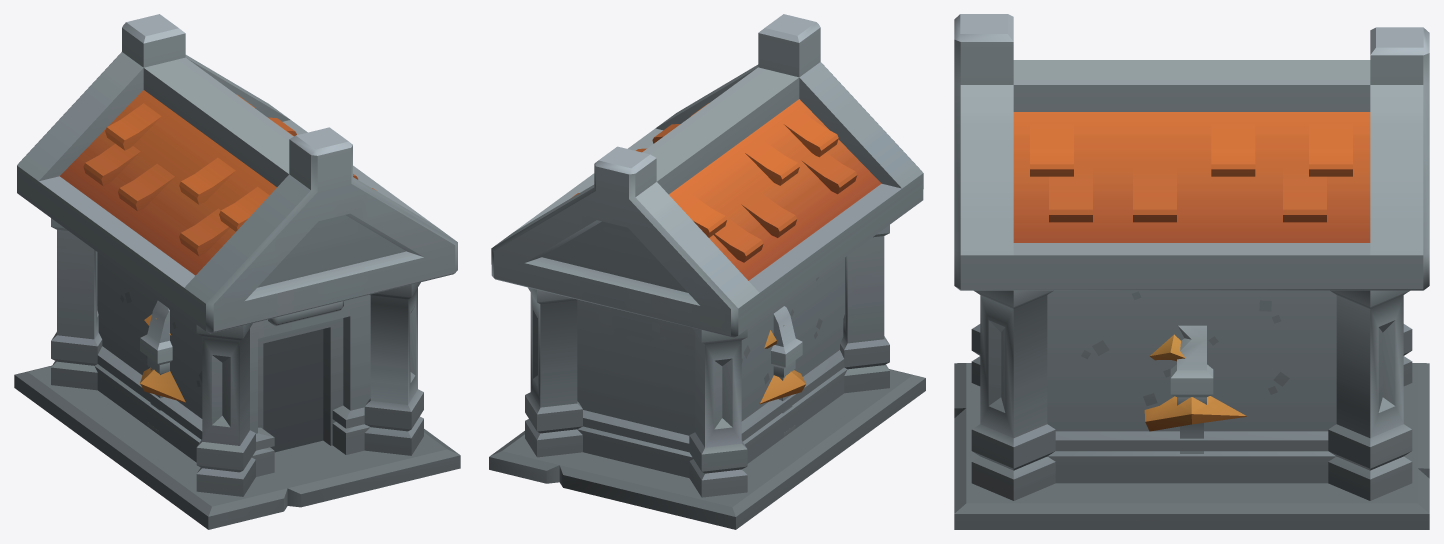
File: halloween.glb
The picture shows the model from 3 angles, left to right: view 1: azimuth 30°, elevation 25°; view 2: azimuth 150°, elevation 25°; view 3: azimuth 270°, elevation 25°; orthographic projection. The views are drawn at different scales.
Parts seen in each view (by area): view 1: crypt, arch, tree_pine_yellow_large; view 2: crypt, arch, tree_pine_yellow_large; view 3: crypt, arch, tree_pine_yellow_large.
Boxes of the visible parts, left/top/right/bottom form: crypt: left=14, top=14, right=460, bottom=529; arch: left=140, top=300, right=172, bottom=435; tree_pine_yellow_large: left=140, top=314, right=185, bottom=402; crypt: left=489, top=14, right=925, bottom=529; arch: left=771, top=306, right=802, bottom=436; tree_pine_yellow_large: left=760, top=325, right=805, bottom=404; crypt: left=954, top=14, right=1429, bottom=529; arch: left=1170, top=325, right=1213, bottom=453; tree_pine_yellow_large: left=1144, top=334, right=1246, bottom=431.
Size of the model in its own units: 6 by 8.55 by 8.
Materials: 1 (1 with a texture image).
